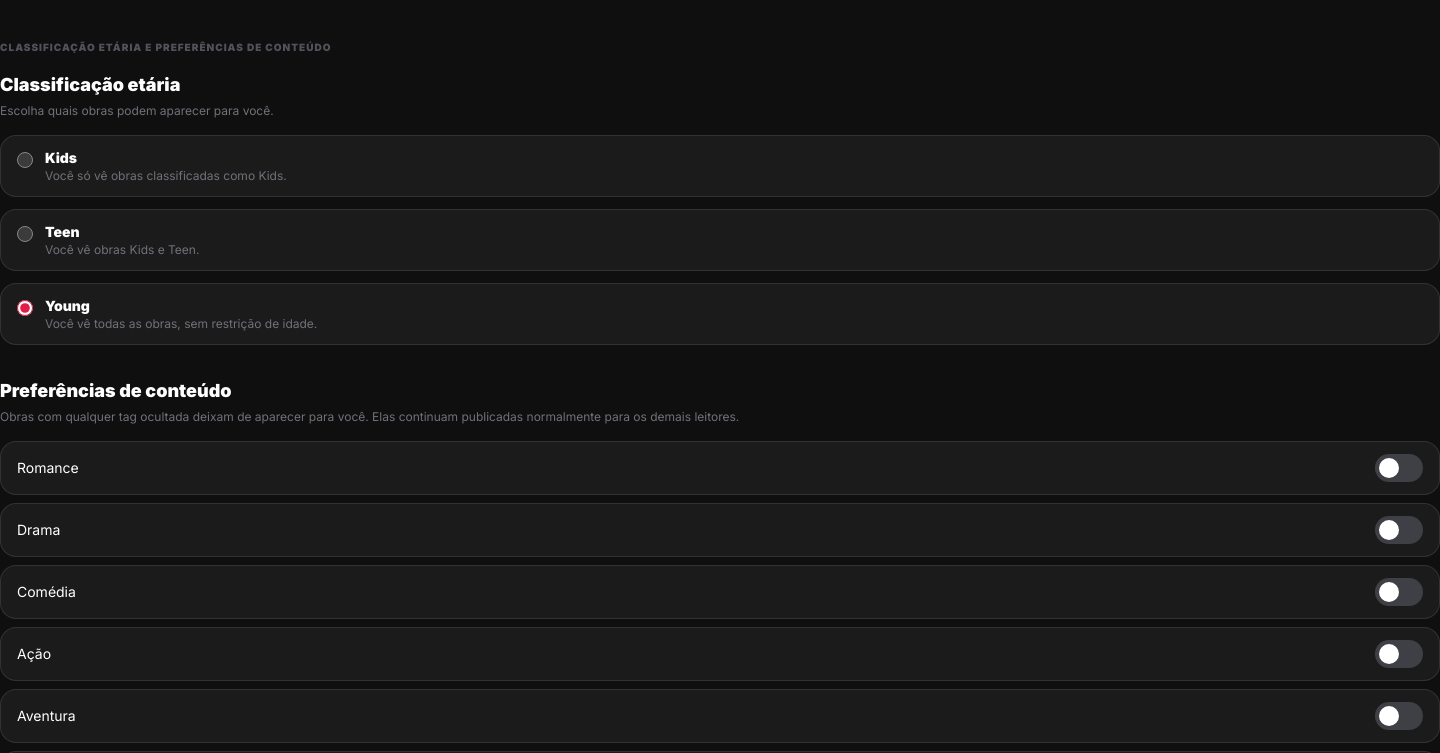
Test: ParentalSettings — salvar sem PIN › sem temPin: PUT vai SEM a chave pin
Expected: the heading "Classificação etária e Preferências de conteúdo" is shown, [0, 41, 331, 53]
Click the switch named "Ocultar Romance". click: (1399, 468)
box: [1375, 454, 1423, 482]
(page scrolled)
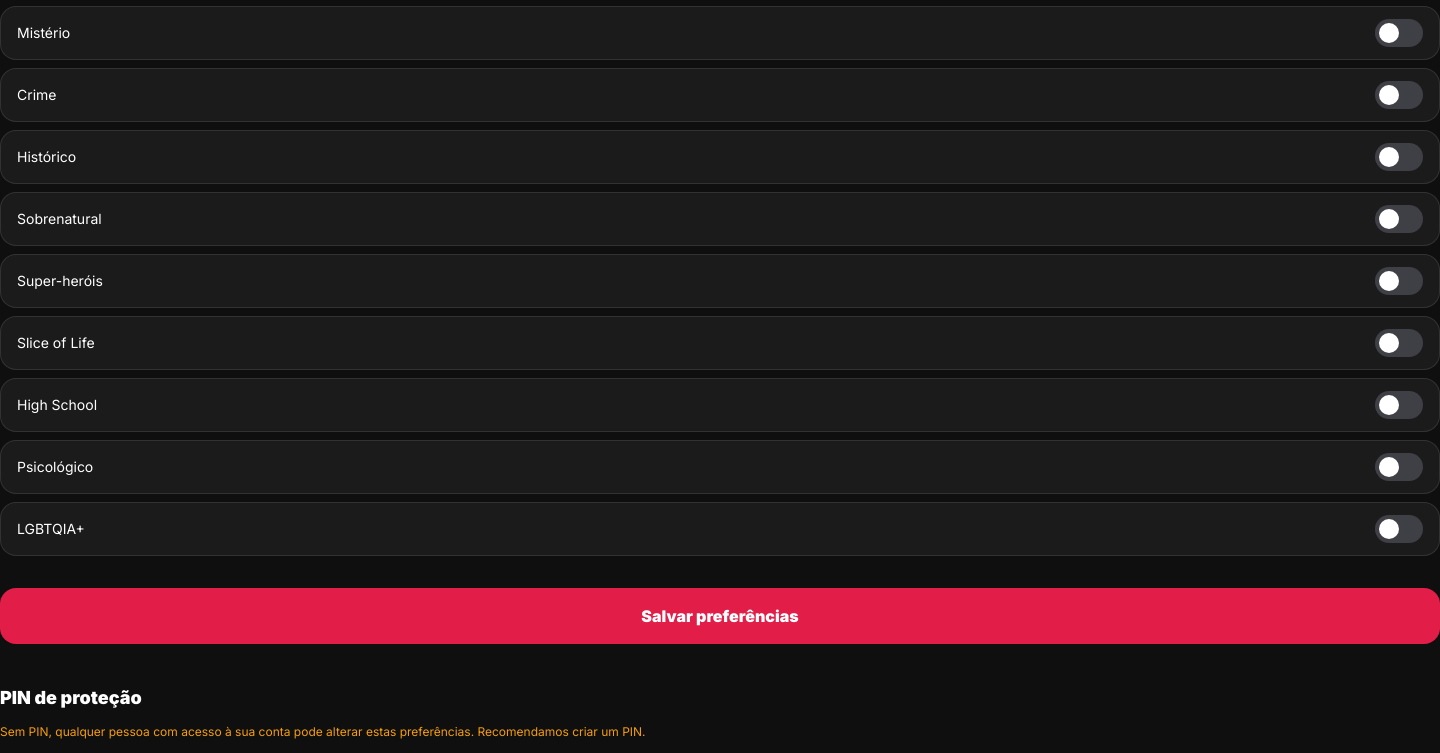
Click the button "Salvar preferências". click: (720, 616)
box: [0, 588, 1439, 644]
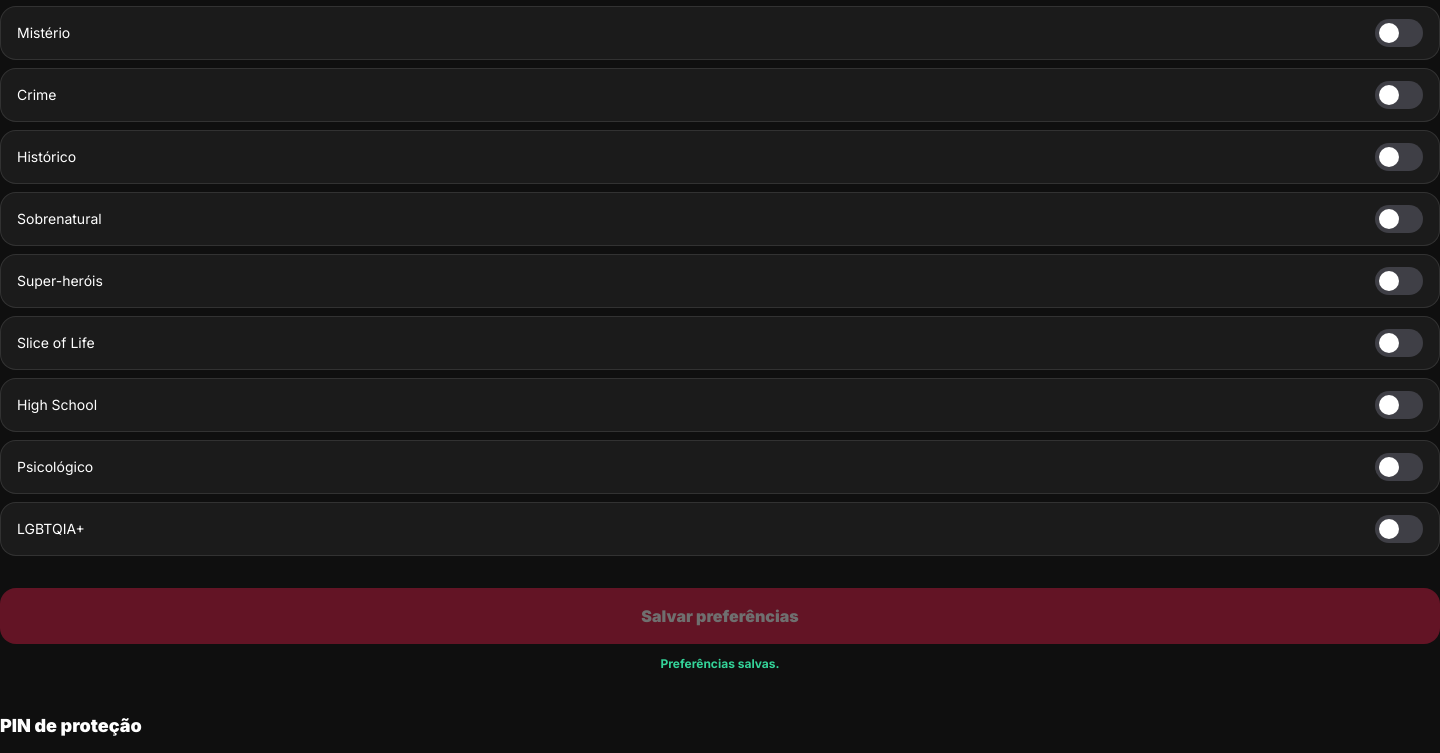
Now the text "Preferências salvas." is shown, box [660, 656, 780, 671]
